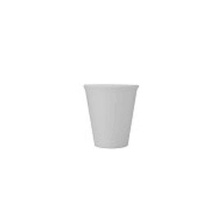paper_cup: (77, 79, 142, 151)
